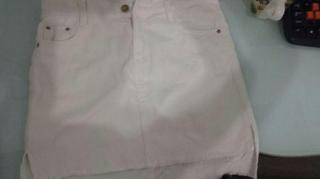skirt: (20, 0, 260, 178)
